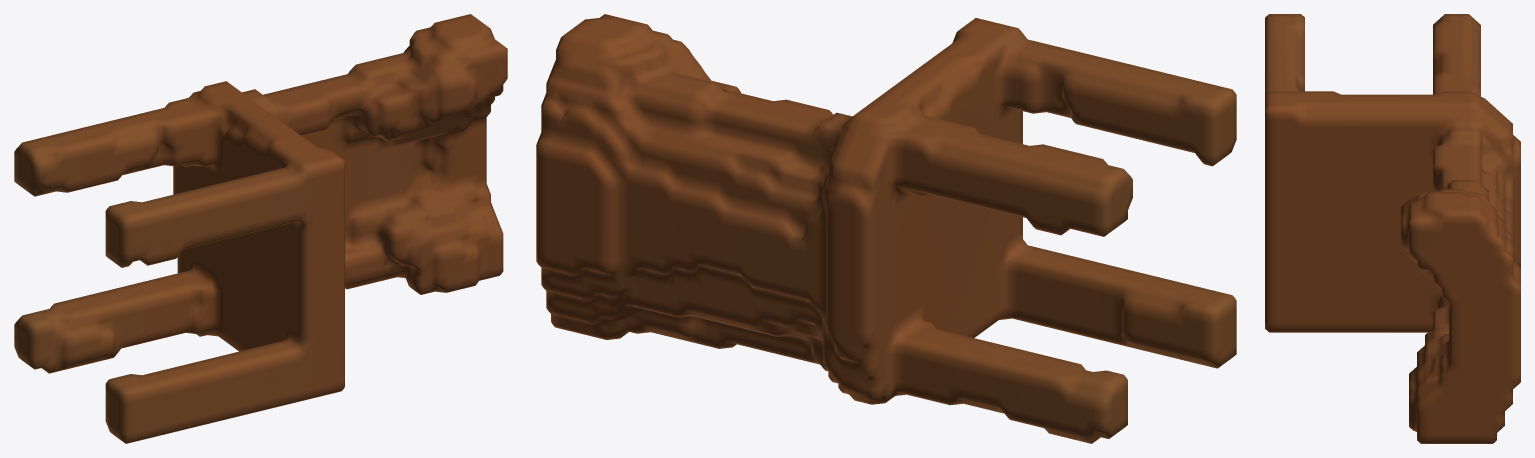
File: an old style brown wooden chair with curved back a.glb
3 views of the same model, side by side, from view 1: azimuth 30°, elevation 25°; view 2: azimuth 150°, elevation 25°; view 3: azimuth 270°, elevation 25° (orthographic). The views are drawn at different scales.
Parts seen in each view (by area): view 1: an old style brown wooden chair with curved back a; view 2: an old style brown wooden chair with curved back a; view 3: an old style brown wooden chair with curved back a.
Boxes of the visible parts, <box> form: an old style brown wooden chair with curved back a: <box>14,14,507,443</box>; an old style brown wooden chair with curved back a: <box>536,14,1236,443</box>; an old style brown wooden chair with curved back a: <box>1265,14,1520,443</box>.
Size of the model in its own units: 64 by 32 by 32.
